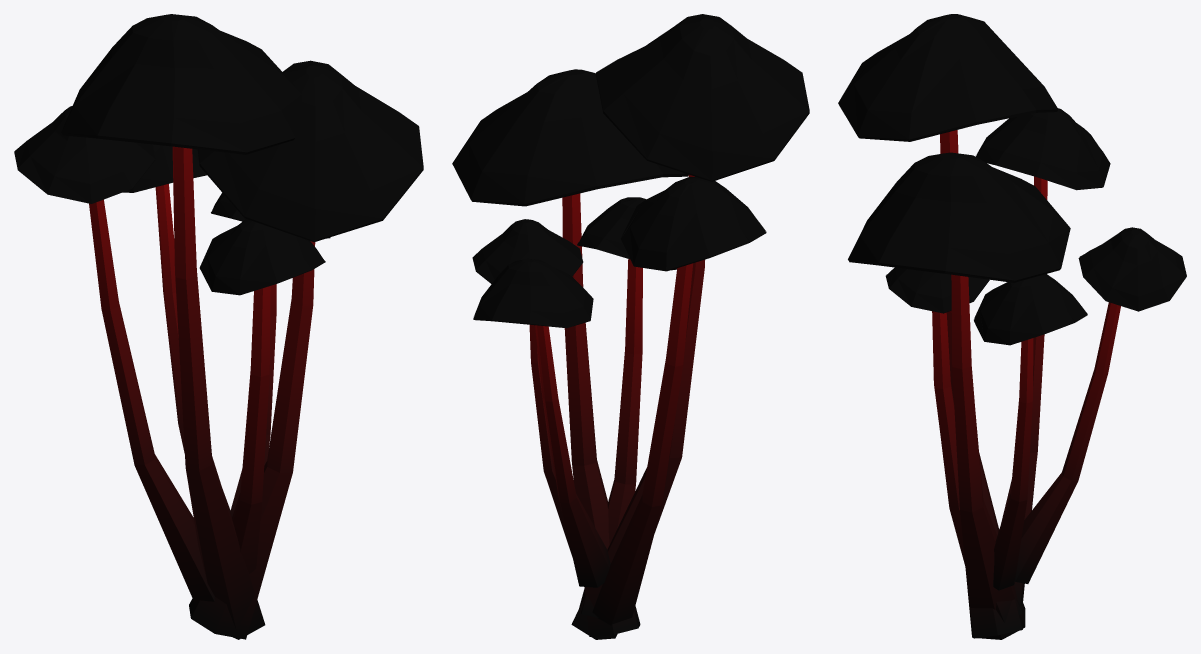
The model's file is FungiUmbona03.fbx.
The picture shows the model from 3 angles, left to right: view 1: azimuth 30°, elevation 25°; view 2: azimuth 150°, elevation 25°; view 3: azimuth 270°, elevation 25°; orthographic projection. The views are drawn at different scales.
Parts seen in each view (by area): view 1: FungiUmbona03; view 2: FungiUmbona03; view 3: FungiUmbona03.
Part boxes in pixels (<box>): FungiUmbona03: <box>14,14,423,639</box>; FungiUmbona03: <box>452,14,809,639</box>; FungiUmbona03: <box>838,14,1186,639</box>.
Size of the model in its own units: 17.74 by 32.18 by 17.41.
